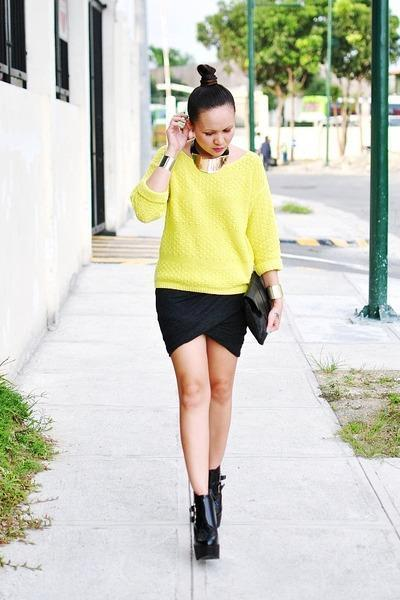bag: (243, 269, 279, 344)
jacket: (130, 156, 286, 294)
shoe: (187, 466, 225, 559)
skirt: (155, 288, 253, 347)
